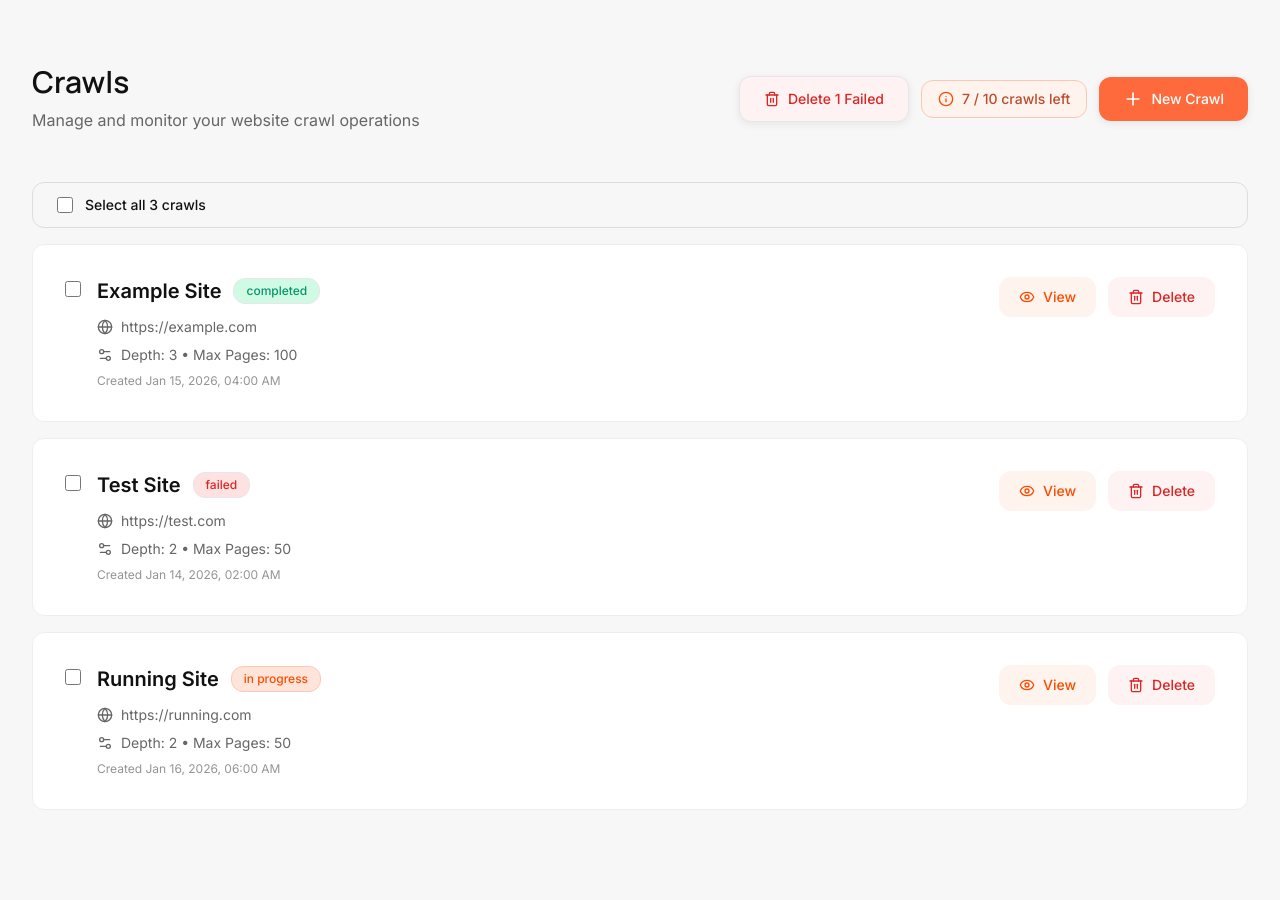
Test case: CrawlsPage › clicking delete shows confirmation modal
Expected: the link "Example Site" is shown, [97,277,222,305]
Click the Delete button for the first crawl
What coordinates should you click on to do the following:
click the button "Delete" in the row of "completed"
I would click on:
 (1162, 297)
Its box is [1108,277,1215,317].
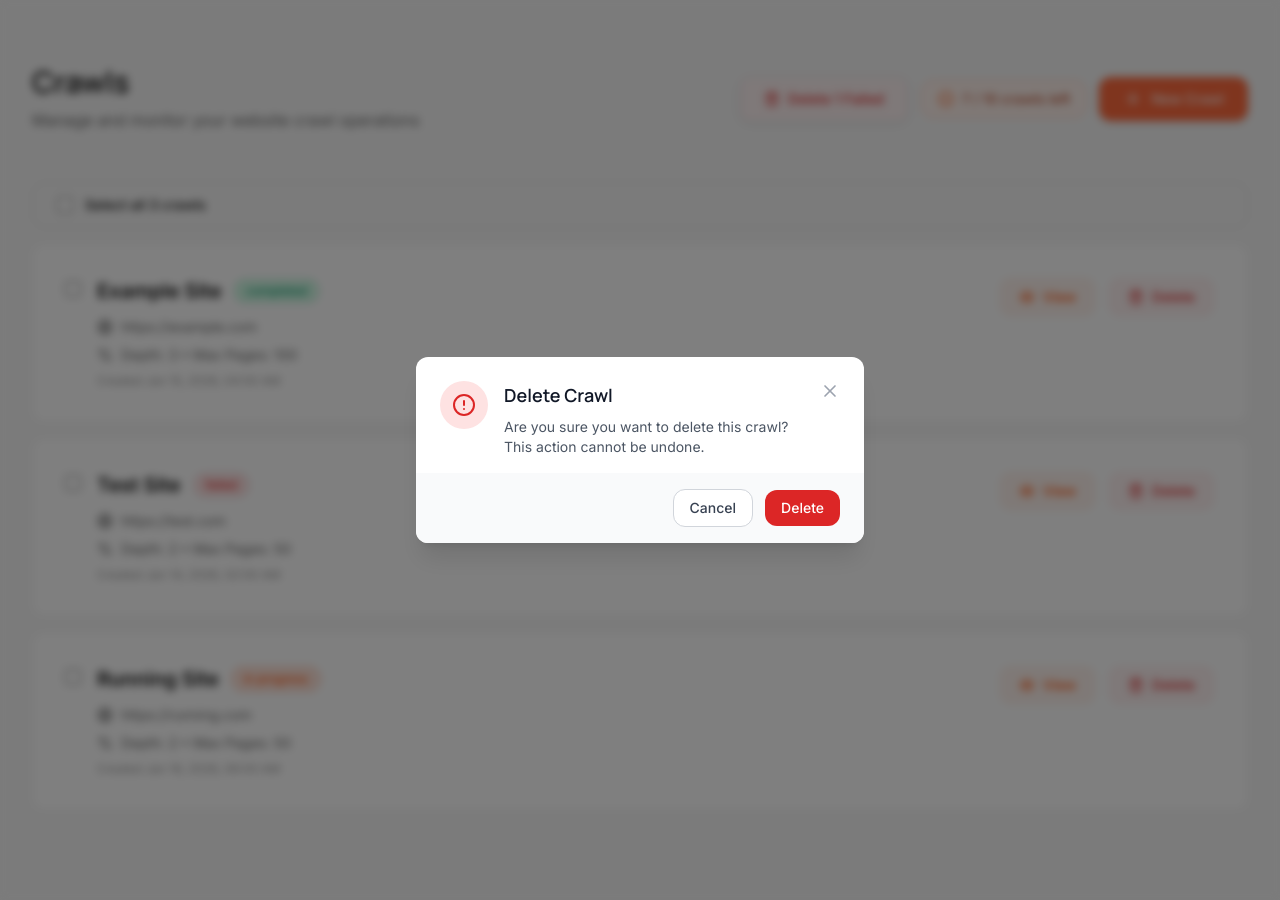
Expected: the heading "Delete Crawl" is shown, [504,383,613,407]
Expected: the text "Are you sure you want to delete this crawl? This action cannot be undone." is shown, [504,417,820,457]
